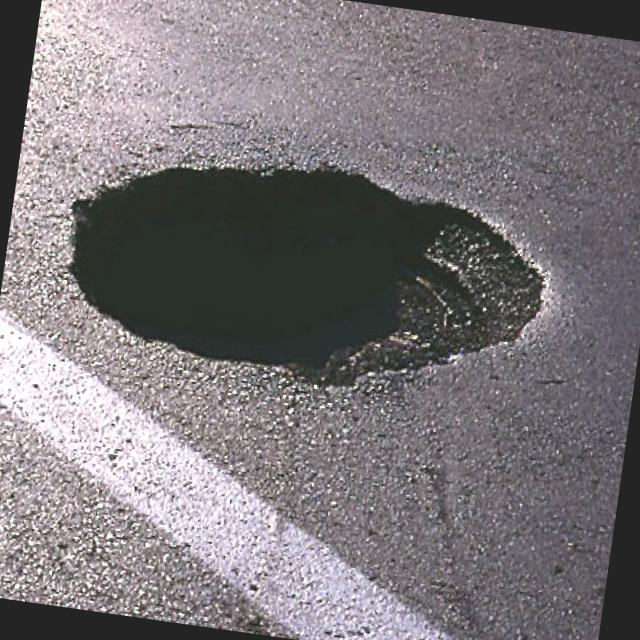bad-road: (49, 127, 560, 421)
